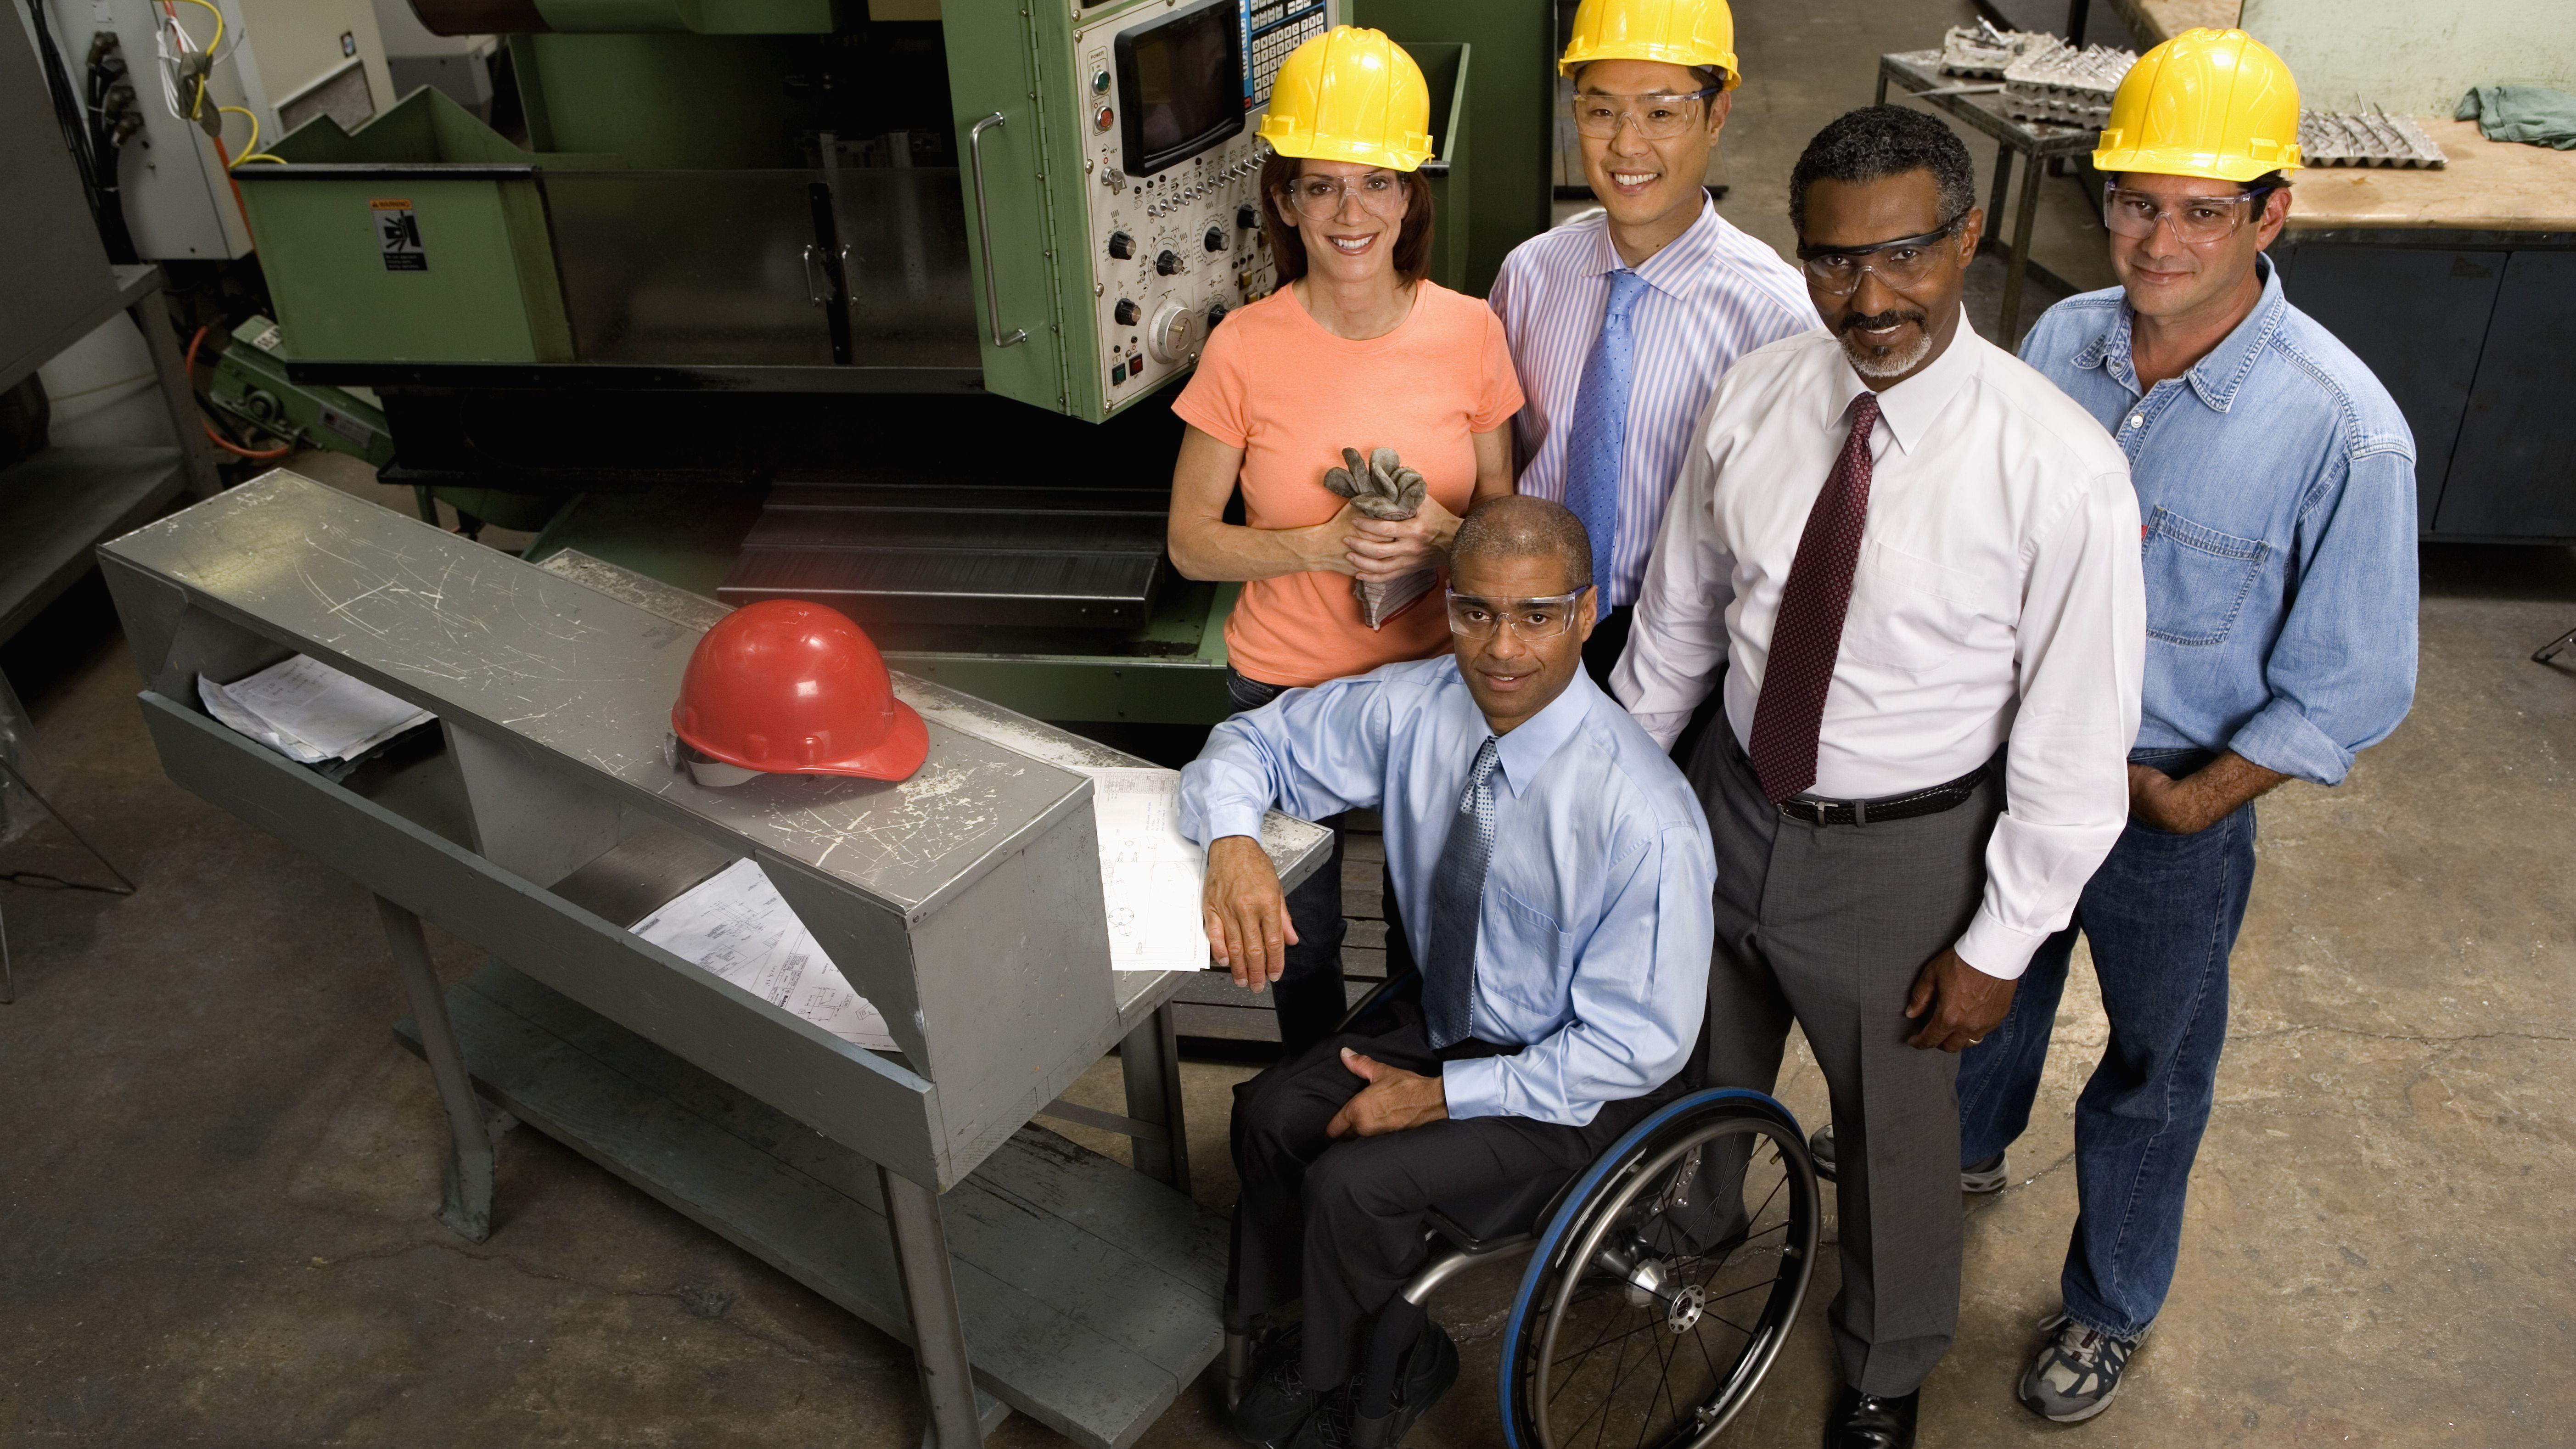helmet: (2082, 27, 2309, 193), (1263, 23, 1435, 179), (1555, 0, 1743, 90)
